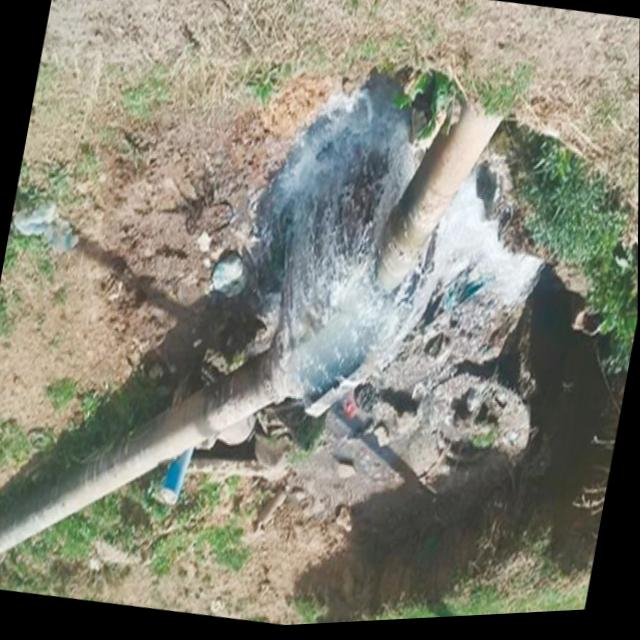leak: (277, 127, 432, 409)
